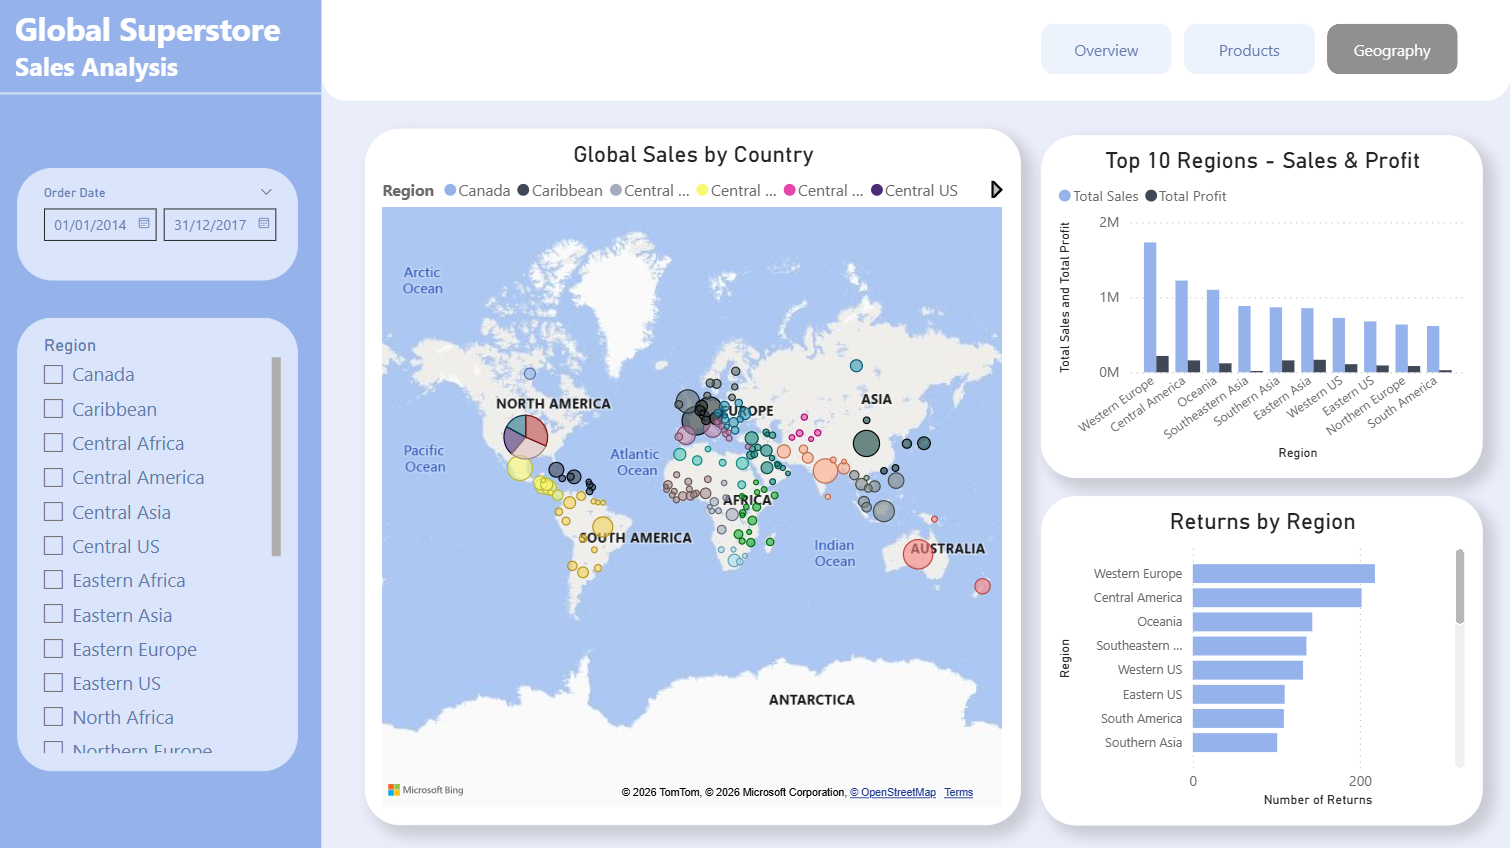

What the dashboard file says about the page in this screenshot:
{"tool":"powerbi","page":{"name":"Geography","canvas":[1280,720],"ordinal":2},"visuals":[{"type":"map","title":"Global Sales by Country","fields":{"Category":["Orders.Country"],"Size":["Orders.Total Sales"],"Series":["Orders.Region"]},"box":[308.7,109.4,555.2,589.8],"z":0},{"type":"clusteredColumnChart","title":"Top 10 Regions - Sales & Profit","fields":{"Category":["Orders.Region"],"Y":["Orders.Total Sales","Orders.Total Profit"]},"box":[881.2,114,374.4,290.3],"z":1000},{"type":"clusteredBarChart","title":"Returns by Region","fields":{"Y":["Returns.Total Returns"],"Category":["Returns.Region"]},"box":[881.2,420.4,374.4,278.8],"z":2000},{"type":"shape","box":[0,0,272.2,720],"z":3000},{"type":"shape","box":[272.2,0,1006.7,85.6],"z":4000},{"type":"slicer","fields":{"Values":["Orders.Order Date"]},"box":[14.9,141.8,238.1,95.2],"z":5000},{"type":"slicer","fields":{"Values":["Returns.Region"]},"box":[14.9,268.8,238.1,384.1],"z":6000},{"type":"pageNavigator","box":[880.8,20.5,353.8,43.3],"z":7000},{"type":"shape","box":[0,62.6,272,33.7],"z":8000},{"type":"textbox","box":[7.7,0,255.2,79],"z":9000}]}

Visuals, with their boxes in screenshot pixels (x1, y1, x2, y2), scaled from the page's 1280x720 canvas onto the 1510x848 screenshot:
"Global Sales by Country" map: <bbox>364, 129, 1019, 824</bbox>
"Top 10 Regions - Sales & Profit" clusteredColumnChart: <bbox>1040, 134, 1481, 476</bbox>
"Returns by Region" clusteredBarChart: <bbox>1040, 495, 1481, 824</bbox>
shape: <bbox>0, 0, 321, 847</bbox>
shape: <bbox>321, 0, 1509, 101</bbox>
slicer - Orders.Order Date: <bbox>18, 167, 298, 279</bbox>
slicer - Returns.Region: <bbox>18, 317, 298, 769</bbox>
pageNavigator: <bbox>1039, 24, 1456, 75</bbox>
shape: <bbox>0, 74, 321, 113</bbox>
textbox: <bbox>9, 0, 310, 93</bbox>
